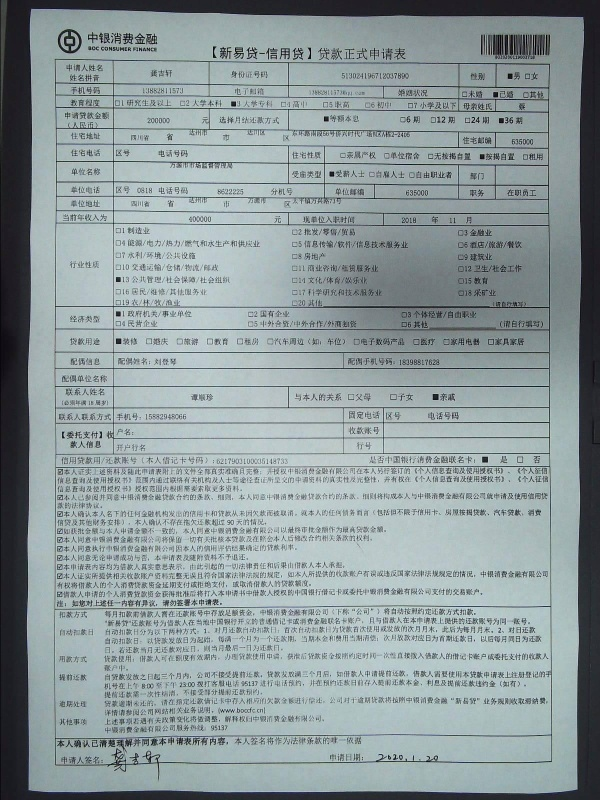text: (113, 748, 128, 775), (129, 748, 144, 775), (145, 748, 160, 775), (225, 44, 240, 62), (241, 44, 256, 62), (257, 44, 272, 62), (273, 44, 288, 62), (289, 44, 304, 62), (305, 44, 320, 62), (321, 44, 336, 62), (337, 44, 352, 62), (353, 44, 368, 62), (369, 44, 384, 62), (385, 44, 400, 62), (97, 30, 112, 47), (113, 30, 128, 47), (129, 30, 144, 47), (145, 30, 160, 47), (211, 44, 224, 62), (65, 736, 80, 750), (81, 736, 96, 750), (97, 736, 112, 750), (113, 736, 128, 750), (129, 736, 144, 750), (145, 736, 160, 750), (161, 736, 176, 750), (177, 736, 192, 750), (193, 736, 208, 750), (209, 736, 224, 750), (225, 736, 240, 750), (241, 736, 256, 750), (257, 736, 272, 750), (273, 736, 288, 750), (289, 736, 304, 750), (305, 736, 320, 750), (321, 736, 336, 750), (337, 736, 352, 750), (385, 751, 400, 765), (401, 751, 416, 765), (417, 751, 432, 765), (481, 99, 497, 112), (209, 262, 225, 275), (369, 262, 385, 275), (481, 251, 497, 264), (209, 597, 225, 610), (529, 634, 545, 647), (65, 62, 80, 75), (81, 62, 96, 75), (129, 99, 144, 112), (145, 99, 160, 112), (161, 99, 176, 112), (177, 99, 192, 112), (193, 99, 208, 112), (209, 99, 224, 112), (225, 99, 240, 112), (241, 99, 256, 112), (257, 99, 272, 112), (273, 99, 288, 112), (289, 99, 304, 112), (305, 99, 320, 112), (321, 99, 336, 112), (337, 99, 352, 112), (353, 99, 368, 112), (369, 99, 384, 112), (385, 99, 400, 112), (401, 99, 416, 112), (417, 99, 432, 112), (433, 99, 448, 112), (449, 99, 464, 112), (465, 99, 480, 112), (513, 187, 528, 200), (65, 212, 80, 225), (81, 212, 96, 225), (81, 259, 96, 272), (129, 237, 144, 250), (145, 237, 160, 250), (161, 237, 176, 250), (177, 237, 192, 250), (193, 237, 208, 250), (209, 237, 224, 250), (225, 237, 240, 250), (241, 237, 256, 250), (129, 262, 144, 275), (145, 262, 160, 275), (161, 262, 176, 275), (177, 262, 192, 275), (193, 262, 208, 275), (113, 274, 128, 287), (129, 274, 144, 287), (145, 274, 160, 287), (161, 274, 176, 287), (177, 274, 192, 287), (193, 274, 208, 287), (209, 274, 224, 287), (305, 225, 320, 238), (321, 225, 336, 238), (337, 225, 352, 238), (289, 239, 304, 252), (305, 239, 320, 252), (321, 239, 336, 252), (337, 239, 352, 252), (353, 239, 368, 252), (369, 239, 384, 252), (385, 239, 400, 252), (289, 262, 304, 275), (305, 262, 320, 275), (321, 262, 336, 275), (337, 262, 352, 275), (353, 262, 368, 275), (289, 287, 304, 300), (305, 287, 320, 300), (321, 287, 336, 300), (337, 287, 352, 300), (353, 287, 368, 300), (369, 287, 384, 300), (465, 251, 480, 264), (465, 262, 480, 275), (481, 262, 496, 275), (497, 262, 512, 275), (465, 287, 480, 300), (481, 287, 496, 300), (129, 336, 144, 349), (145, 336, 160, 349), (161, 336, 176, 349), (177, 336, 192, 349), (193, 336, 208, 349), (209, 336, 224, 349), (225, 336, 240, 349), (241, 336, 256, 349), (257, 336, 272, 349), (273, 336, 288, 349), (289, 336, 304, 349), (305, 336, 320, 349), (321, 336, 336, 349), (337, 336, 352, 349), (353, 336, 368, 349), (369, 336, 384, 349), (385, 336, 400, 349), (401, 336, 416, 349), (417, 336, 432, 349), (433, 336, 448, 349), (449, 336, 464, 349), (465, 336, 480, 349), (481, 336, 496, 349), (497, 336, 512, 349), (513, 336, 528, 349), (433, 411, 448, 424), (353, 425, 368, 438), (65, 569, 80, 582), (81, 569, 96, 582), (97, 569, 112, 582), (113, 569, 128, 582), (129, 569, 144, 582), (145, 569, 160, 582), (161, 569, 176, 582), (177, 569, 192, 582), (193, 569, 208, 582), (209, 569, 224, 582), (225, 569, 240, 582), (241, 569, 256, 582), (257, 569, 272, 582), (273, 569, 288, 582), (289, 569, 304, 582), (305, 569, 320, 582), (321, 569, 336, 582), (337, 569, 352, 582), (353, 569, 368, 582), (369, 569, 384, 582), (385, 569, 400, 582), (401, 569, 416, 582), (417, 569, 432, 582), (433, 569, 448, 582), (449, 569, 464, 582), (465, 569, 480, 582), (481, 569, 496, 582), (497, 569, 512, 582), (513, 569, 528, 582), (529, 569, 544, 582), (65, 587, 80, 600), (81, 587, 96, 600), (97, 587, 112, 600), (113, 587, 128, 600), (129, 587, 144, 600), (145, 587, 160, 600), (161, 587, 176, 600), (177, 587, 192, 600), (193, 587, 208, 600), (209, 587, 224, 600), (225, 587, 240, 600), (241, 587, 256, 600), (257, 587, 272, 600), (273, 587, 288, 600), (289, 587, 304, 600), (305, 587, 320, 600), (321, 587, 336, 600), (337, 587, 352, 600), (353, 587, 368, 600), (369, 587, 384, 600), (385, 587, 400, 600), (401, 587, 416, 600), (417, 587, 432, 600), (433, 587, 448, 600), (449, 587, 464, 600), (465, 587, 480, 600), (65, 597, 80, 610), (81, 597, 96, 610), (97, 597, 112, 610), (113, 597, 128, 610), (129, 597, 144, 610), (145, 597, 160, 610), (161, 597, 176, 610), (177, 597, 192, 610), (193, 597, 208, 610), (65, 716, 80, 729), (113, 607, 128, 620), (129, 607, 144, 620), (145, 607, 160, 620), (161, 607, 176, 620), (177, 607, 192, 620), (193, 607, 208, 620), (209, 607, 224, 620), (225, 607, 240, 620), (241, 607, 256, 620), (257, 607, 272, 620), (273, 607, 288, 620), (289, 607, 304, 620), (305, 607, 320, 620), (321, 607, 336, 620), (337, 607, 352, 620), (353, 607, 368, 620), (369, 607, 384, 620), (385, 607, 400, 620), (401, 607, 416, 620), (417, 607, 432, 620), (433, 607, 448, 620), (449, 607, 464, 620), (465, 607, 480, 620), (113, 634, 128, 647), (129, 634, 144, 647), (145, 634, 160, 647), (161, 634, 176, 647), (177, 634, 192, 647), (193, 634, 208, 647), (209, 634, 224, 647), (225, 634, 240, 647), (241, 634, 256, 647), (257, 634, 272, 647), (273, 634, 288, 647), (289, 634, 304, 647), (305, 634, 320, 647), (321, 634, 336, 647), (337, 634, 352, 647), (353, 634, 368, 647), (369, 634, 384, 647), (385, 634, 400, 647), (401, 634, 416, 647), (417, 634, 432, 647), (433, 634, 448, 647), (449, 634, 464, 647), (465, 634, 480, 647), (481, 634, 496, 647), (497, 634, 512, 647), (513, 634, 528, 647), (113, 652, 128, 665), (129, 652, 144, 665), (145, 652, 160, 665), (161, 652, 176, 665), (177, 652, 192, 665), (193, 652, 208, 665), (209, 652, 224, 665), (225, 652, 240, 665), (241, 652, 256, 665), (257, 652, 272, 665), (273, 652, 288, 665), (289, 652, 304, 665), (305, 652, 320, 665), (321, 652, 336, 665), (337, 652, 352, 665), (353, 652, 368, 665), (369, 652, 384, 665), (385, 652, 400, 665), (401, 652, 416, 665), (417, 652, 432, 665), (433, 652, 448, 665), (449, 652, 464, 665), (465, 652, 480, 665), (481, 652, 496, 665), (497, 652, 512, 665), (513, 652, 528, 665), (529, 652, 544, 665), (113, 669, 128, 682), (129, 669, 144, 682), (145, 669, 160, 682), (161, 669, 176, 682), (177, 669, 192, 682), (193, 669, 208, 682), (209, 669, 224, 682), (225, 669, 240, 682), (241, 669, 256, 682), (257, 669, 272, 682), (273, 669, 288, 682), (289, 669, 304, 682), (305, 669, 320, 682), (321, 669, 336, 682), (337, 669, 352, 682), (353, 669, 368, 682), (369, 669, 384, 682), (385, 669, 400, 682), (401, 669, 416, 682), (417, 669, 432, 682), (433, 669, 448, 682), (449, 669, 464, 682), (465, 669, 480, 682), (481, 669, 496, 682), (497, 669, 512, 682), (513, 669, 528, 682), (529, 669, 544, 682), (113, 678, 128, 691), (129, 678, 144, 691), (145, 678, 160, 691), (161, 678, 176, 691), (177, 678, 192, 691), (193, 678, 208, 691), (209, 678, 224, 691), (225, 678, 240, 691), (241, 678, 256, 691), (257, 678, 272, 691), (273, 678, 288, 691), (289, 678, 304, 691), (305, 678, 320, 691), (321, 678, 336, 691), (337, 678, 352, 691), (353, 678, 368, 691), (369, 678, 384, 691), (385, 678, 400, 691), (401, 678, 416, 691), (417, 678, 432, 691), (433, 678, 448, 691), (449, 678, 464, 691), (465, 678, 480, 691), (481, 678, 496, 691), (497, 678, 512, 691), (513, 678, 528, 691), (113, 724, 128, 737), (129, 724, 144, 737), (145, 724, 160, 737), (161, 724, 176, 737), (177, 724, 192, 737), (193, 724, 208, 737), (209, 724, 224, 737), (145, 43, 161, 55), (353, 752, 369, 764), (114, 99, 128, 112), (97, 212, 111, 225), (114, 237, 128, 250), (114, 262, 128, 275), (290, 225, 304, 238), (513, 262, 527, 275), (114, 336, 128, 349), (449, 411, 463, 424), (353, 736, 366, 750), (401, 44, 411, 62), (97, 43, 112, 55), (113, 43, 128, 55), (129, 43, 144, 55), (401, 87, 416, 99), (225, 114, 240, 126), (241, 114, 256, 126), (257, 114, 272, 126), (321, 113, 336, 125), (337, 113, 352, 125), (401, 114, 416, 126), (417, 114, 432, 126), (433, 114, 448, 126), (449, 114, 464, 126), (465, 114, 480, 126), (481, 114, 496, 126), (497, 114, 512, 126), (353, 150, 368, 162), (369, 150, 384, 162), (385, 150, 400, 162), (401, 150, 416, 162), (417, 150, 432, 162), (433, 150, 448, 162), (449, 150, 464, 162), (465, 150, 480, 162), (481, 150, 496, 162), (497, 150, 512, 162), (513, 150, 528, 162), (529, 150, 544, 162), (305, 169, 320, 181), (337, 169, 352, 181), (353, 169, 368, 181), (369, 169, 384, 181), (385, 169, 400, 181), (401, 169, 416, 181), (417, 169, 432, 181), (433, 169, 448, 181), (337, 187, 352, 199), (417, 188, 432, 200), (129, 250, 144, 262), (145, 250, 160, 262), (161, 250, 176, 262), (177, 250, 192, 262), (129, 287, 144, 299), (145, 287, 160, 299), (161, 287, 176, 299), (177, 287, 192, 299), (193, 287, 208, 299), (305, 275, 320, 287), (321, 275, 336, 287), (337, 275, 352, 287), (353, 275, 368, 287), (305, 298, 320, 310), (465, 227, 480, 239), (481, 227, 496, 239), (465, 239, 480, 251), (481, 239, 496, 251), (497, 239, 512, 251), (465, 275, 480, 287), (81, 313, 96, 325), (129, 319, 144, 331), (145, 319, 160, 331), (513, 319, 528, 331), (529, 319, 544, 331), (81, 337, 96, 349), (81, 357, 96, 369), (129, 356, 144, 368), (145, 356, 160, 368), (161, 356, 176, 368), (353, 357, 368, 369), (369, 357, 384, 369), (385, 357, 400, 369), (401, 357, 416, 369), (417, 357, 432, 369), (65, 429, 80, 441), (81, 429, 96, 441), (97, 429, 112, 441), (65, 525, 80, 537), (81, 525, 96, 537), (97, 525, 112, 537), (113, 525, 128, 537), (129, 525, 144, 537), (145, 525, 160, 537), (161, 525, 176, 537), (177, 525, 192, 537), (193, 525, 208, 537), (209, 525, 224, 537), (225, 525, 240, 537), (241, 525, 256, 537), (257, 525, 272, 537), (273, 525, 288, 537), (289, 525, 304, 537), (305, 525, 320, 537), (321, 525, 336, 537), (337, 525, 352, 537), (353, 525, 368, 537), (369, 525, 384, 537), (113, 617, 128, 629), (129, 617, 144, 629), (145, 617, 160, 629), (161, 617, 176, 629), (177, 617, 192, 629), (193, 617, 208, 629), (209, 617, 224, 629), (225, 617, 240, 629), (241, 617, 256, 629), (257, 617, 272, 629), (273, 617, 288, 629), (289, 617, 304, 629), (305, 617, 320, 629), (321, 617, 336, 629), (337, 617, 352, 629), (353, 617, 368, 629), (369, 617, 384, 629), (385, 617, 400, 629), (401, 617, 416, 629), (417, 617, 432, 629), (433, 617, 448, 629), (449, 617, 464, 629), (465, 617, 480, 629), (481, 617, 496, 629), (497, 617, 512, 629), (513, 617, 528, 629), (113, 625, 128, 637), (129, 625, 144, 637), (145, 625, 160, 637), (161, 625, 176, 637), (177, 625, 192, 637), (193, 625, 208, 637), (209, 625, 224, 637), (225, 625, 240, 637), (241, 625, 256, 637), (257, 625, 272, 637), (273, 625, 288, 637), (289, 625, 304, 637), (305, 625, 320, 637), (321, 625, 336, 637), (337, 625, 352, 637), (353, 625, 368, 637), (369, 625, 384, 637), (385, 625, 400, 637), (401, 625, 416, 637), (417, 625, 432, 637), (433, 625, 448, 637), (449, 625, 464, 637), (465, 625, 480, 637), (481, 625, 496, 637), (497, 625, 512, 637), (513, 625, 528, 637), (113, 644, 128, 656), (129, 644, 144, 656), (145, 644, 160, 656), (161, 644, 176, 656), (177, 644, 192, 656), (193, 644, 208, 656), (209, 644, 224, 656), (225, 644, 240, 656), (241, 644, 256, 656), (257, 644, 272, 656), (113, 688, 128, 700), (129, 688, 144, 700), (145, 688, 160, 700), (161, 688, 176, 700), (177, 688, 192, 700), (193, 688, 208, 700), (209, 688, 224, 700), (225, 688, 240, 700), (241, 688, 256, 700), (113, 697, 128, 709), (129, 697, 144, 709), (145, 697, 160, 709), (161, 697, 176, 709), (177, 697, 192, 709), (193, 697, 208, 709), (209, 697, 224, 709), (225, 697, 240, 709), (241, 697, 256, 709), (257, 697, 272, 709), (273, 697, 288, 709), (289, 697, 304, 709), (305, 697, 320, 709), (321, 697, 336, 709), (337, 697, 352, 709), (353, 697, 368, 709), (369, 697, 384, 709), (385, 697, 400, 709), (401, 697, 416, 709), (417, 697, 432, 709), (433, 697, 448, 709), (449, 697, 464, 709), (465, 697, 480, 709), (481, 697, 496, 709), (497, 697, 512, 709), (513, 697, 528, 709), (529, 697, 544, 709), (113, 706, 128, 718), (129, 706, 144, 718), (145, 706, 160, 718), (161, 706, 176, 718), (177, 706, 192, 718), (193, 706, 208, 718), (209, 706, 224, 718), (225, 706, 240, 718), (241, 706, 256, 718), (65, 755, 80, 767), (81, 755, 96, 767), (337, 752, 352, 764), (465, 310, 481, 321), (417, 320, 433, 331), (529, 455, 545, 466), (86, 30, 96, 47), (401, 239, 414, 252), (417, 87, 431, 99), (513, 114, 527, 126), (353, 187, 367, 199), (114, 250, 128, 262), (114, 287, 128, 299), (290, 275, 304, 287), (290, 298, 304, 310), (481, 275, 495, 287), (114, 319, 128, 331), (354, 440, 368, 452), (273, 644, 287, 656), (81, 73, 96, 84), (161, 69, 176, 80), (353, 70, 368, 81), (369, 70, 384, 81), (385, 70, 400, 81), (513, 71, 528, 82), (241, 87, 256, 98), (321, 87, 336, 98), (337, 87, 352, 98), (353, 87, 368, 98), (465, 89, 480, 100), (481, 89, 496, 100), (497, 89, 512, 100), (513, 89, 528, 100), (529, 89, 544, 100), (65, 111, 80, 122), (81, 111, 96, 122), (97, 111, 112, 122), (81, 148, 96, 159), (305, 150, 320, 161), (81, 167, 96, 178), (177, 161, 192, 172), (193, 161, 208, 172), (209, 161, 224, 172), (225, 187, 240, 198), (273, 187, 288, 198), (193, 214, 208, 225), (129, 226, 144, 237), (129, 298, 144, 309), (145, 298, 160, 309), (161, 298, 176, 309), (257, 319, 272, 330), (273, 319, 288, 330), (289, 319, 304, 330), (305, 319, 320, 330), (321, 319, 336, 330), (337, 319, 352, 330), (401, 310, 416, 321), (417, 310, 432, 321), (433, 310, 448, 321), (449, 310, 464, 321), (401, 320, 416, 331), (65, 374, 80, 385), (81, 374, 96, 385), (65, 387, 80, 398), (81, 387, 96, 398), (193, 392, 208, 403), (305, 392, 320, 403), (321, 392, 336, 403), (337, 392, 352, 403), (353, 392, 368, 403), (369, 392, 384, 403), (385, 392, 400, 403), (401, 392, 416, 403), (417, 392, 432, 403), (433, 392, 448, 403), (65, 412, 80, 423), (81, 412, 96, 423), (97, 412, 112, 423), (113, 412, 128, 423), (129, 412, 144, 423), (145, 412, 160, 423), (161, 412, 176, 423), (353, 410, 368, 421), (369, 410, 384, 421), (385, 410, 400, 421), (129, 443, 144, 454), (65, 456, 80, 467), (81, 456, 96, 467), (97, 456, 112, 467), (113, 456, 128, 467), (129, 456, 144, 467), (145, 456, 160, 467), (161, 456, 176, 467), (177, 456, 192, 467), (193, 456, 208, 467), (209, 456, 224, 467), (225, 456, 240, 467), (241, 456, 256, 467), (257, 456, 272, 467), (273, 456, 288, 467), (369, 455, 384, 466), (385, 455, 400, 466), (401, 455, 416, 466), (417, 455, 432, 466), (433, 455, 448, 466), (449, 455, 464, 466), (465, 455, 480, 466), (481, 455, 496, 466), (497, 455, 512, 466), (513, 455, 528, 466), (65, 492, 80, 503), (81, 492, 96, 503), (97, 492, 112, 503), (113, 492, 128, 503), (129, 492, 144, 503), (145, 492, 160, 503), (161, 492, 176, 503), (177, 492, 192, 503), (193, 492, 208, 503), (209, 492, 224, 503), (225, 492, 240, 503), (241, 492, 256, 503), (257, 492, 272, 503), (273, 492, 288, 503), (289, 492, 304, 503), (305, 492, 320, 503), (321, 492, 336, 503), (337, 492, 352, 503), (353, 492, 368, 503), (369, 492, 384, 503), (385, 492, 400, 503), (401, 492, 416, 503), (417, 492, 432, 503), (433, 492, 448, 503), (449, 492, 464, 503), (465, 492, 480, 503), (481, 492, 496, 503), (497, 492, 512, 503), (513, 492, 528, 503), (529, 492, 544, 503), (65, 500, 80, 511), (81, 500, 96, 511), (65, 508, 80, 519), (81, 508, 96, 519), (97, 508, 112, 519), (113, 508, 128, 519), (129, 508, 144, 519), (145, 508, 160, 519), (161, 508, 176, 519), (177, 508, 192, 519), (193, 508, 208, 519), (209, 508, 224, 519), (225, 508, 240, 519), (241, 508, 256, 519), (257, 508, 272, 519), (273, 508, 288, 519), (289, 508, 304, 519), (305, 508, 320, 519), (321, 508, 336, 519), (337, 508, 352, 519), (353, 508, 368, 519), (369, 508, 384, 519), (385, 508, 400, 519), (401, 508, 416, 519), (417, 508, 432, 519), (433, 508, 448, 519), (449, 508, 464, 519), (465, 508, 480, 519), (481, 508, 496, 519), (497, 508, 512, 519), (513, 508, 528, 519), (529, 508, 544, 519), (65, 533, 80, 544), (81, 533, 96, 544), (97, 533, 112, 544), (113, 533, 128, 544), (129, 533, 144, 544), (145, 533, 160, 544), (161, 533, 176, 544), (177, 533, 192, 544), (193, 533, 208, 544), (209, 533, 224, 544), (225, 533, 240, 544), (241, 533, 256, 544), (257, 533, 272, 544), (273, 533, 288, 544), (289, 533, 304, 544), (305, 533, 320, 544), (321, 533, 336, 544), (337, 533, 352, 544), (353, 533, 368, 544), (65, 552, 80, 563), (81, 552, 96, 563), (97, 552, 112, 563), (113, 552, 128, 563), (129, 552, 144, 563), (145, 552, 160, 563), (161, 552, 176, 563), (177, 552, 192, 563), (193, 552, 208, 563), (209, 552, 224, 563), (225, 552, 240, 563), (65, 562, 80, 573), (81, 562, 96, 573), (97, 562, 112, 573), (113, 562, 128, 573), (129, 562, 144, 573), (145, 562, 160, 573), (161, 562, 176, 573), (177, 562, 192, 573), (193, 562, 208, 573), (209, 562, 224, 573), (225, 562, 240, 573), (241, 562, 256, 573), (257, 562, 272, 573), (273, 562, 288, 573), (289, 562, 304, 573), (305, 562, 320, 573), (321, 562, 336, 573), (65, 580, 80, 591), (81, 580, 96, 591), (97, 580, 112, 591), (113, 580, 128, 591), (129, 580, 144, 591), (145, 580, 160, 591), (161, 580, 176, 591), (177, 580, 192, 591), (193, 580, 208, 591), (209, 580, 224, 591), (225, 580, 240, 591), (241, 580, 256, 591), (257, 580, 272, 591), (273, 580, 288, 591), (289, 580, 304, 591), (65, 627, 80, 638), (81, 627, 96, 638), (65, 672, 80, 683), (113, 715, 128, 726), (129, 715, 144, 726), (145, 715, 160, 726), (161, 715, 176, 726), (177, 715, 192, 726), (193, 715, 208, 726), (209, 715, 224, 726), (225, 715, 240, 726), (241, 715, 256, 726), (257, 715, 272, 726), (273, 715, 288, 726), (289, 715, 304, 726), (305, 715, 320, 726), (339, 150, 352, 162), (513, 239, 526, 251), (499, 319, 512, 331), (369, 425, 381, 438), (257, 706, 270, 718), (257, 87, 271, 98), (114, 148, 128, 159), (130, 199, 144, 210), (114, 226, 128, 237), (114, 298, 128, 309), (97, 374, 111, 385), (177, 412, 191, 423), (114, 428, 128, 439), (497, 52, 512, 62), (513, 52, 528, 62), (241, 70, 256, 80), (81, 99, 96, 109), (81, 120, 96, 130), (81, 131, 96, 141), (465, 136, 480, 146), (161, 149, 176, 159), (81, 185, 96, 195), (129, 185, 144, 195), (145, 185, 160, 195), (161, 185, 176, 195), (81, 199, 96, 209), (193, 196, 208, 206), (273, 215, 288, 225), (305, 215, 320, 225), (321, 215, 336, 225), (337, 215, 352, 225), (401, 216, 416, 226), (417, 216, 432, 226), (433, 216, 448, 226), (449, 216, 464, 226), (289, 252, 304, 262), (305, 252, 320, 262), (129, 309, 144, 319), (145, 309, 160, 319), (161, 309, 176, 319), (177, 309, 192, 319), (257, 310, 272, 320), (273, 310, 288, 320), (65, 399, 80, 409), (81, 399, 96, 409), (97, 399, 112, 409), (81, 440, 96, 450), (65, 475, 80, 485), (81, 475, 96, 485), (97, 475, 112, 485), (113, 475, 128, 485), (129, 475, 144, 485), (145, 475, 160, 485), (161, 475, 176, 485), (177, 475, 192, 485), (193, 475, 208, 485), (209, 475, 224, 485), (225, 475, 240, 485), (241, 475, 256, 485), (257, 475, 272, 485), (273, 475, 288, 485), (289, 475, 304, 485), (305, 475, 320, 485), (321, 475, 336, 485), (337, 475, 352, 485), (353, 475, 368, 485), (369, 475, 384, 485), (385, 475, 400, 485), (401, 475, 416, 485), (417, 475, 432, 485), (433, 475, 448, 485), (449, 475, 464, 485), (465, 475, 480, 485), (481, 475, 496, 485), (497, 475, 512, 485), (513, 475, 528, 485), (529, 475, 544, 485), (65, 544, 80, 554), (81, 544, 96, 554), (97, 544, 112, 554), (113, 544, 128, 554), (129, 544, 144, 554), (145, 544, 160, 554), (161, 544, 176, 554), (177, 544, 192, 554), (193, 544, 208, 554), (209, 544, 224, 554), (225, 544, 240, 554), (241, 544, 256, 554), (257, 544, 272, 554), (273, 544, 288, 554), (65, 655, 80, 665), (113, 663, 128, 673), (292, 169, 304, 181), (404, 188, 416, 200), (257, 519, 273, 528), (291, 150, 304, 161), (257, 196, 270, 207), (225, 274, 236, 287), (115, 443, 128, 454), (257, 70, 271, 80), (481, 136, 495, 146), (177, 149, 191, 159), (177, 185, 191, 195), (114, 309, 128, 319), (81, 87, 96, 96), (145, 86, 160, 95), (161, 86, 176, 95), (513, 137, 528, 146), (497, 300, 512, 309), (513, 300, 528, 309), (65, 485, 80, 494), (81, 485, 96, 494), (97, 485, 112, 494), (113, 485, 128, 494), (129, 485, 144, 494), (145, 485, 160, 494), (161, 485, 176, 494), (177, 485, 192, 494), (193, 485, 208, 494), (209, 485, 224, 494), (225, 485, 240, 494), (65, 519, 80, 528), (81, 519, 96, 528), (97, 519, 112, 528), (113, 519, 128, 528), (129, 519, 144, 528), (145, 519, 160, 528), (161, 519, 176, 528), (177, 519, 192, 528), (193, 519, 208, 528), (209, 519, 224, 528), (225, 519, 240, 528), (241, 519, 256, 528), (65, 611, 80, 620), (65, 700, 80, 709), (161, 748, 166, 775), (340, 70, 352, 81), (401, 70, 413, 81), (308, 87, 320, 98), (516, 101, 528, 112), (469, 171, 480, 183), (469, 188, 480, 200), (69, 313, 80, 325), (69, 337, 80, 349), (69, 357, 80, 369), (117, 356, 128, 368), (97, 387, 109, 398), (449, 392, 461, 403), (337, 562, 349, 573), (305, 580, 317, 591), (529, 625, 540, 637), (97, 755, 108, 767), (67, 99, 80, 109), (131, 133, 144, 143), (115, 185, 128, 195), (529, 187, 539, 200), (70, 259, 80, 272), (102, 652, 112, 665), (146, 116, 160, 125), (375, 751, 384, 765), (69, 73, 80, 84), (529, 71, 540, 82), (225, 161, 236, 172), (145, 226, 156, 237), (241, 552, 252, 563), (68, 120, 80, 130), (273, 114, 283, 126), (353, 113, 363, 125), (193, 129, 208, 137), (305, 198, 320, 206), (321, 198, 336, 206), (433, 357, 443, 369), (68, 440, 80, 450), (65, 468, 80, 476), (81, 468, 96, 476), (97, 468, 112, 476), (113, 468, 128, 476), (129, 468, 144, 476), (145, 468, 160, 476), (161, 468, 176, 476), (177, 468, 192, 476), (193, 468, 208, 476), (209, 468, 224, 476), (225, 468, 240, 476), (241, 468, 256, 476), (257, 468, 272, 476), (273, 468, 288, 476), (289, 468, 304, 476), (305, 468, 320, 476), (321, 468, 336, 476), (337, 468, 352, 476), (353, 468, 368, 476), (369, 468, 384, 476), (385, 468, 400, 476), (401, 468, 416, 476), (417, 468, 432, 476), (433, 468, 448, 476), (449, 468, 464, 476), (465, 468, 480, 476), (481, 468, 496, 476), (497, 468, 512, 476), (513, 468, 528, 476), (529, 468, 544, 476), (289, 544, 301, 554), (102, 697, 112, 709), (97, 62, 106, 75), (161, 116, 174, 125), (55, 569, 64, 582), (55, 587, 64, 600), (55, 597, 64, 610), (81, 716, 90, 729), (103, 634, 112, 647), (103, 669, 112, 682), (103, 678, 112, 691), (56, 736, 64, 750), (433, 751, 441, 765), (150, 69, 160, 80), (229, 70, 240, 80), (469, 71, 480, 81), (165, 133, 176, 143), (70, 167, 80, 178), (465, 216, 476, 226), (321, 252, 332, 262), (246, 319, 256, 330), (209, 392, 219, 403), (294, 392, 304, 403), (54, 492, 64, 503), (97, 500, 107, 511), (87, 43, 96, 55), (455, 275, 464, 287), (103, 644, 112, 656), (103, 688, 112, 700), (257, 688, 266, 700), (103, 706, 112, 718), (305, 131, 320, 138), (321, 131, 336, 138), (337, 131, 352, 138), (353, 131, 368, 138), (369, 131, 384, 138), (385, 131, 400, 138), (353, 225, 361, 238), (456, 287, 464, 300), (481, 587, 489, 600), (104, 607, 112, 620), (545, 669, 553, 682), (104, 724, 112, 737), (225, 724, 233, 737), (529, 52, 539, 62), (70, 131, 80, 141), (70, 199, 80, 209), (166, 199, 176, 209), (246, 310, 256, 320), (81, 655, 91, 665), (177, 86, 188, 95), (71, 148, 80, 159), (145, 199, 154, 210), (177, 298, 186, 309), (55, 533, 64, 544), (55, 552, 64, 563), (55, 562, 64, 573), (81, 611, 92, 620), (81, 672, 90, 683), (103, 715, 112, 726), (328, 169, 336, 181), (481, 188, 489, 200), (193, 250, 201, 262), (321, 298, 329, 310), (456, 239, 464, 251), (97, 357, 105, 369), (369, 440, 377, 452), (56, 525, 64, 537), (104, 617, 112, 629), (104, 625, 112, 637), (401, 131, 414, 138), (257, 237, 264, 250), (457, 251, 464, 264), (457, 262, 464, 275), (545, 569, 552, 582), (545, 652, 552, 665), (70, 87, 80, 96), (71, 185, 80, 195), (55, 544, 64, 554), (103, 663, 112, 673), (504, 71, 512, 82), (216, 187, 224, 198), (225, 200, 233, 211), (248, 196, 256, 207), (293, 198, 304, 206), (56, 500, 64, 511), (56, 508, 64, 519), (56, 580, 64, 591), (321, 715, 329, 726), (292, 131, 304, 138), (449, 169, 456, 181), (481, 171, 488, 183), (97, 337, 104, 349), (545, 697, 552, 709), (329, 752, 336, 764), (55, 519, 64, 528), (109, 748, 112, 775), (200, 115, 208, 125), (225, 132, 233, 142), (246, 129, 256, 137), (257, 129, 267, 137), (506, 187, 512, 200), (97, 259, 103, 272), (346, 425, 352, 438), (58, 716, 64, 729), (233, 87, 240, 98), (97, 167, 104, 178), (169, 161, 176, 172), (289, 187, 296, 198), (209, 214, 216, 225), (353, 319, 360, 330), (129, 428, 136, 439), (545, 492, 552, 503), (369, 533, 376, 544), (218, 114, 224, 126), (529, 137, 537, 146), (458, 227, 464, 239), (97, 313, 103, 325), (56, 485, 64, 494), (81, 700, 89, 709), (529, 617, 535, 629), (481, 71, 488, 81), (97, 99, 104, 109), (145, 133, 152, 143), (353, 215, 360, 225), (97, 440, 104, 450), (57, 475, 64, 485), (545, 475, 552, 485), (58, 412, 64, 423), (145, 443, 151, 454), (58, 672, 64, 683), (497, 287, 502, 300), (427, 411, 432, 424), (337, 198, 345, 206), (97, 87, 104, 96), (97, 131, 103, 141), (283, 132, 288, 144), (289, 132, 294, 144), (97, 185, 103, 195), (369, 275, 374, 287), (177, 356, 182, 368), (347, 357, 352, 369), (385, 525, 390, 537), (58, 655, 64, 665), (57, 468, 64, 476), (545, 468, 552, 476), (97, 73, 102, 84), (97, 148, 102, 159), (241, 187, 246, 198), (187, 214, 192, 225), (347, 410, 352, 421), (59, 627, 64, 638), (58, 611, 64, 620), (97, 120, 102, 130), (97, 199, 102, 209), (187, 196, 192, 206), (283, 200, 288, 210), (289, 310, 294, 320), (129, 663, 134, 673), (396, 87, 400, 99), (209, 287, 213, 299), (60, 755, 64, 767), (491, 300, 496, 309), (241, 485, 246, 494), (59, 700, 64, 709), (129, 148, 133, 159), (60, 374, 64, 385), (401, 410, 405, 421), (60, 456, 64, 467), (289, 200, 293, 210), (193, 309, 197, 319), (321, 169, 324, 181), (161, 319, 164, 331), (61, 429, 64, 441), (113, 429, 116, 441), (461, 89, 464, 100), (221, 200, 224, 211), (189, 392, 192, 403), (289, 456, 292, 467), (188, 129, 192, 137), (61, 399, 64, 409), (141, 86, 144, 95), (62, 212, 64, 225), (385, 287, 387, 300), (334, 187, 336, 199), (321, 150, 323, 161), (270, 187, 272, 198), (398, 320, 400, 331), (494, 52, 496, 62), (209, 115, 211, 125), (222, 132, 224, 142), (158, 149, 160, 159), (209, 196, 211, 206), (302, 215, 304, 225), (161, 30, 162, 47), (529, 336, 530, 349), (529, 678, 530, 691), (399, 114, 400, 126), (545, 150, 546, 162), (545, 319, 546, 331), (545, 89, 546, 100), (399, 310, 400, 321), (463, 136, 464, 146), (177, 199, 178, 209), (511, 137, 512, 146), (529, 300, 530, 309), (209, 129, 210, 137)
